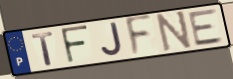E: (187, 7, 226, 48)
F: (124, 12, 154, 59), (59, 24, 91, 66)
J: (100, 21, 125, 58)
N: (156, 9, 194, 53)
T: (30, 30, 56, 67)
